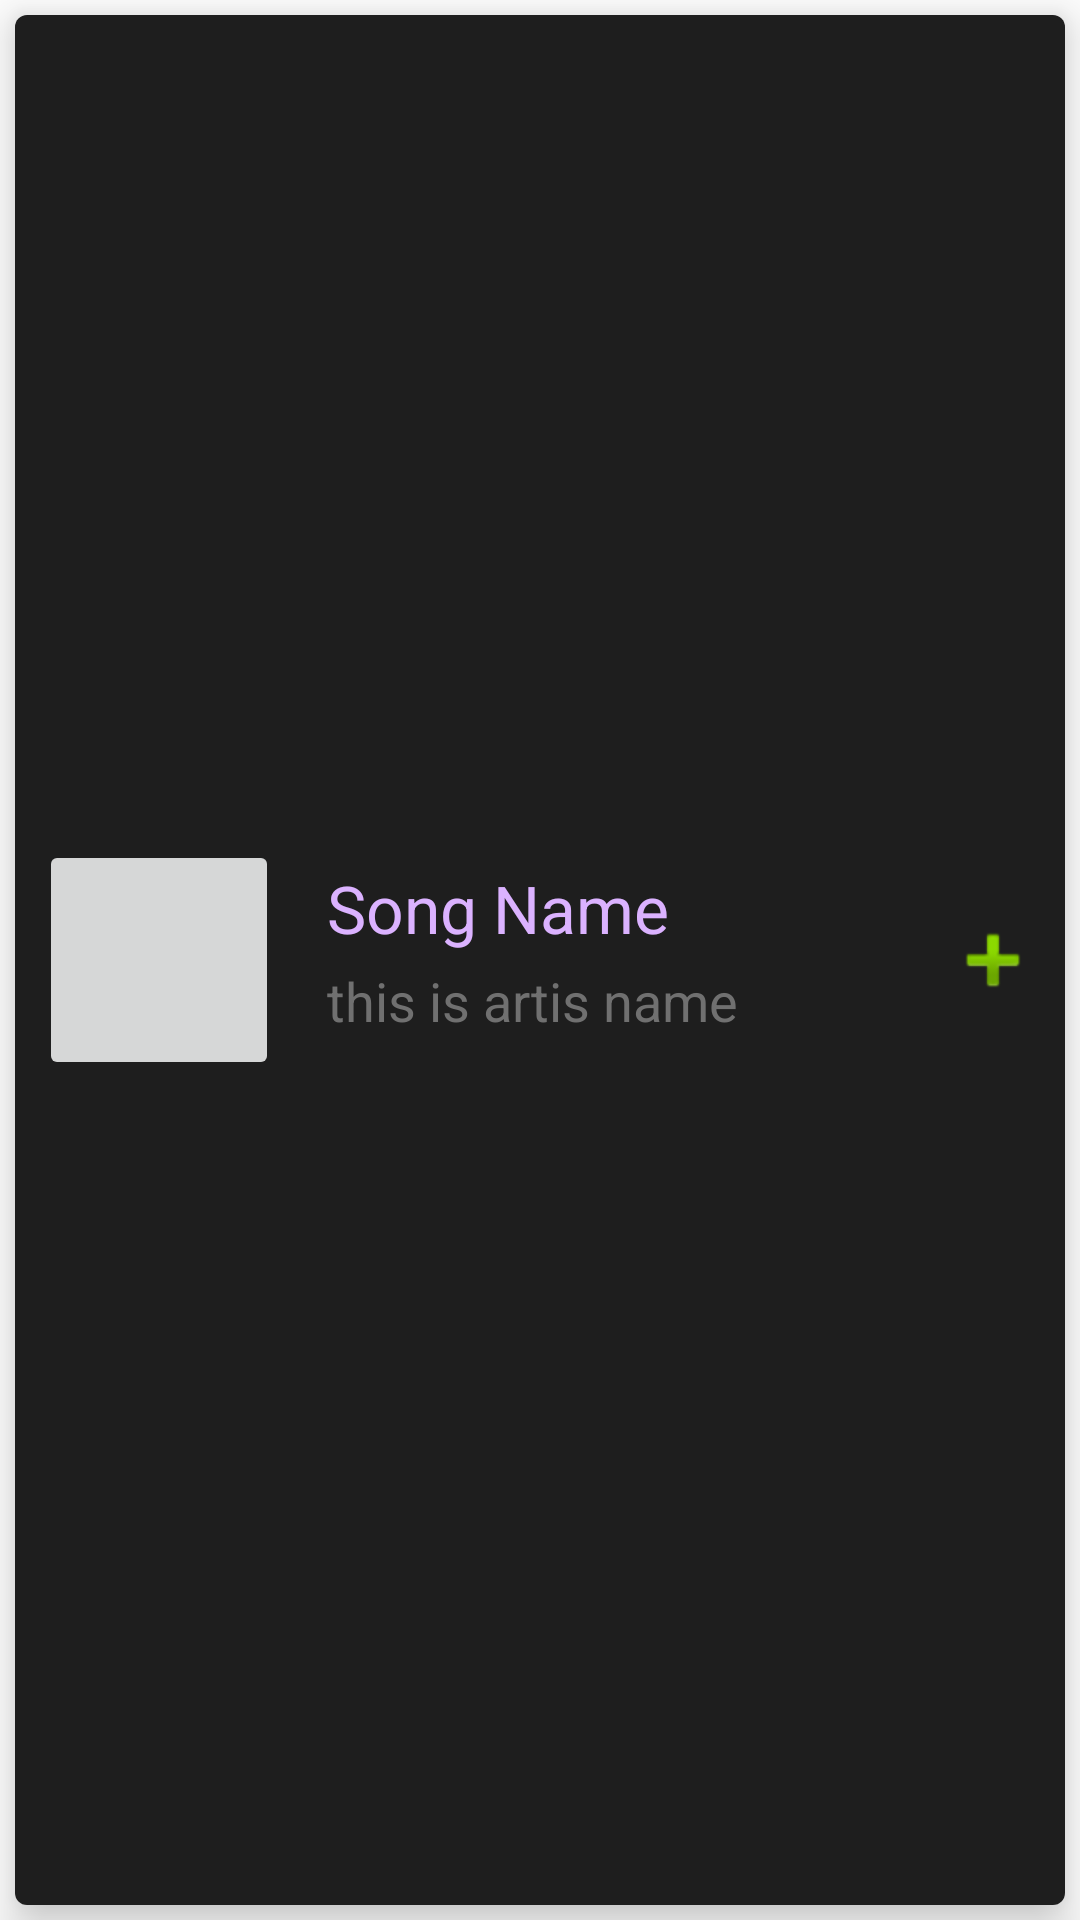

Point at icon controls on the screen. Image size 1080 x 1920, points as [x,y].
add: [993,960]
